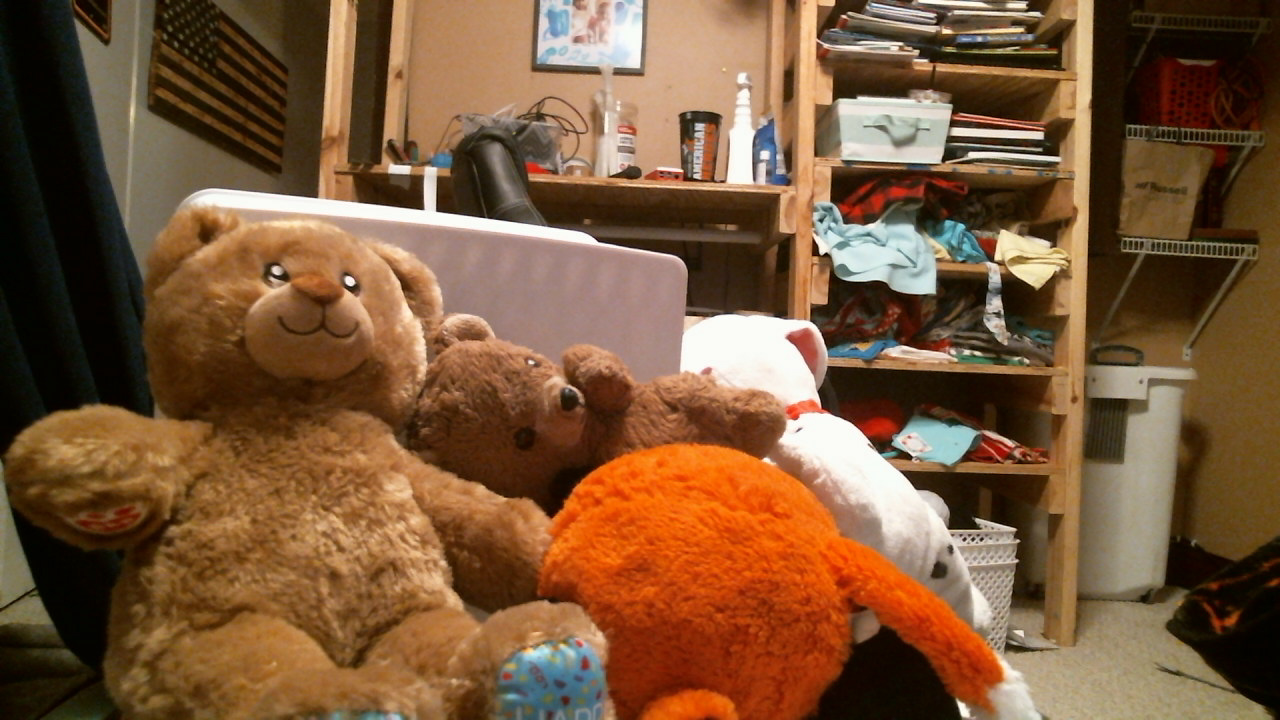Little_Mister_Bear: (510, 360, 584, 461)
